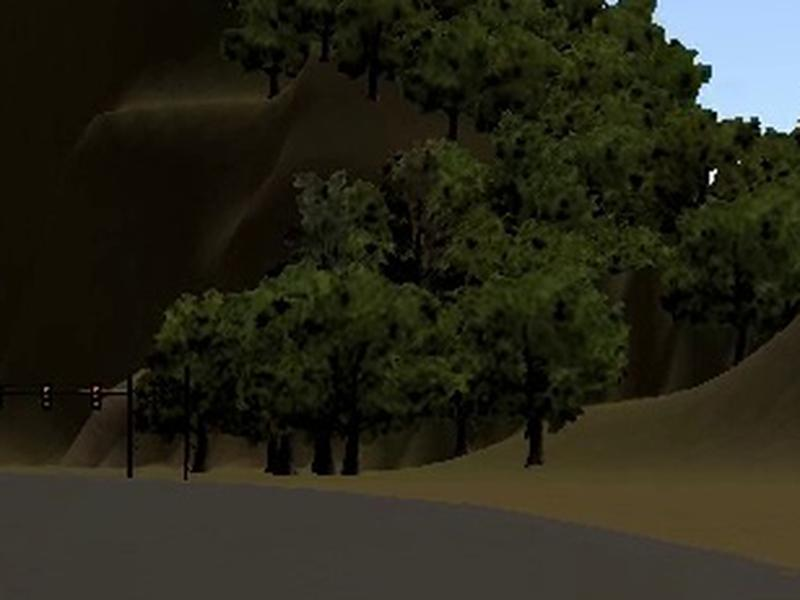Red: (90, 382, 101, 410)
